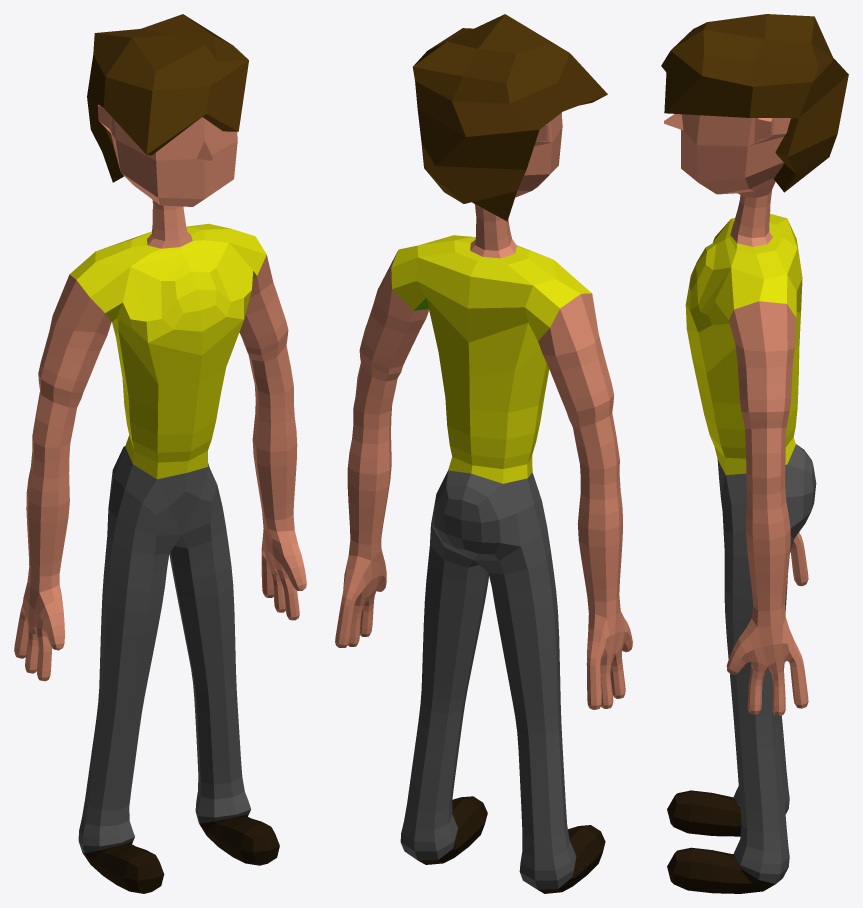
The model's file is npc2.fbx.
3 views of the same model, side by side, from view 1: azimuth 30°, elevation 25°; view 2: azimuth 150°, elevation 25°; view 3: azimuth 270°, elevation 25° (orthographic).
Visible parts, largest first — view 1: npc2; view 2: npc2; view 3: npc2.
Part boxes in pixels (left/top/right/bottom): npc2: left=14, top=14, right=306, bottom=893; npc2: left=335, top=14, right=632, bottom=893; npc2: left=661, top=14, right=848, bottom=893.
Bounding box in the file's own units: 106 × 318 × 64.41.
